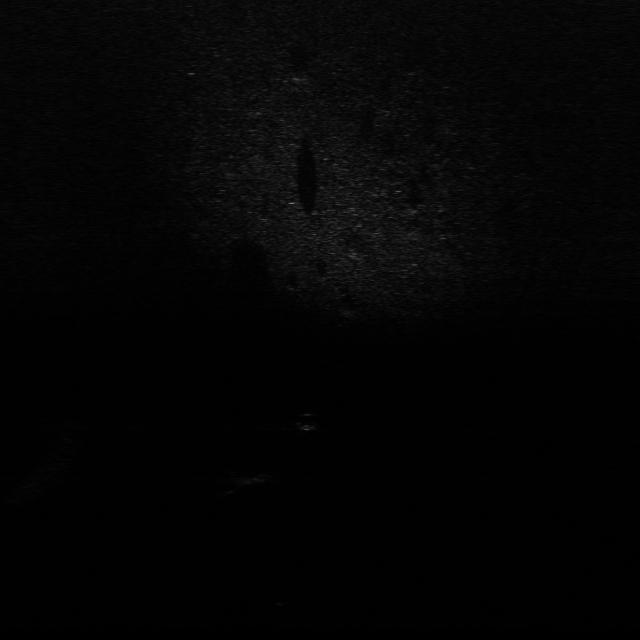ball: (294, 410, 326, 433)
square cage: (228, 466, 280, 486)
